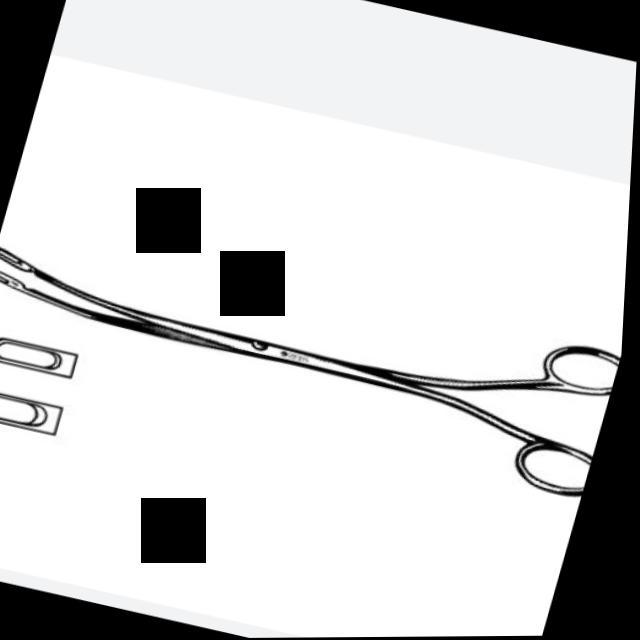Desjardin Forceps: (0, 207, 631, 504)
